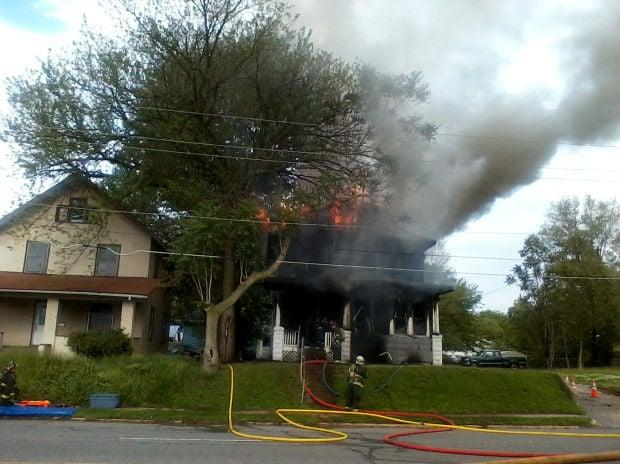fire: (257, 208, 280, 234), (330, 203, 353, 228)
smoke: (367, 27, 620, 238), (310, 238, 451, 292)
